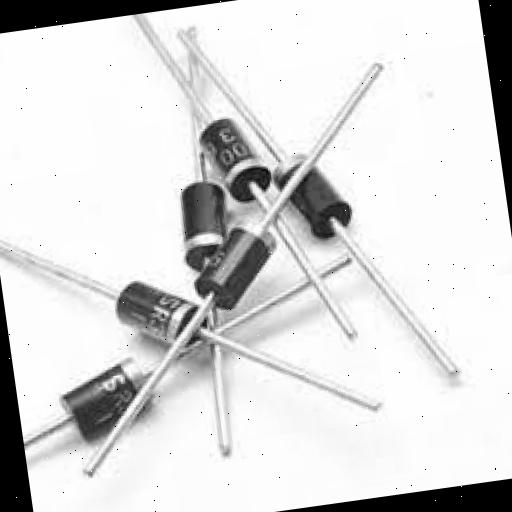DIODE: (0, 0, 470, 488), (270, 120, 392, 298), (77, 248, 220, 390), (200, 214, 309, 353), (46, 344, 178, 454), (184, 102, 282, 229), (168, 172, 242, 277)
